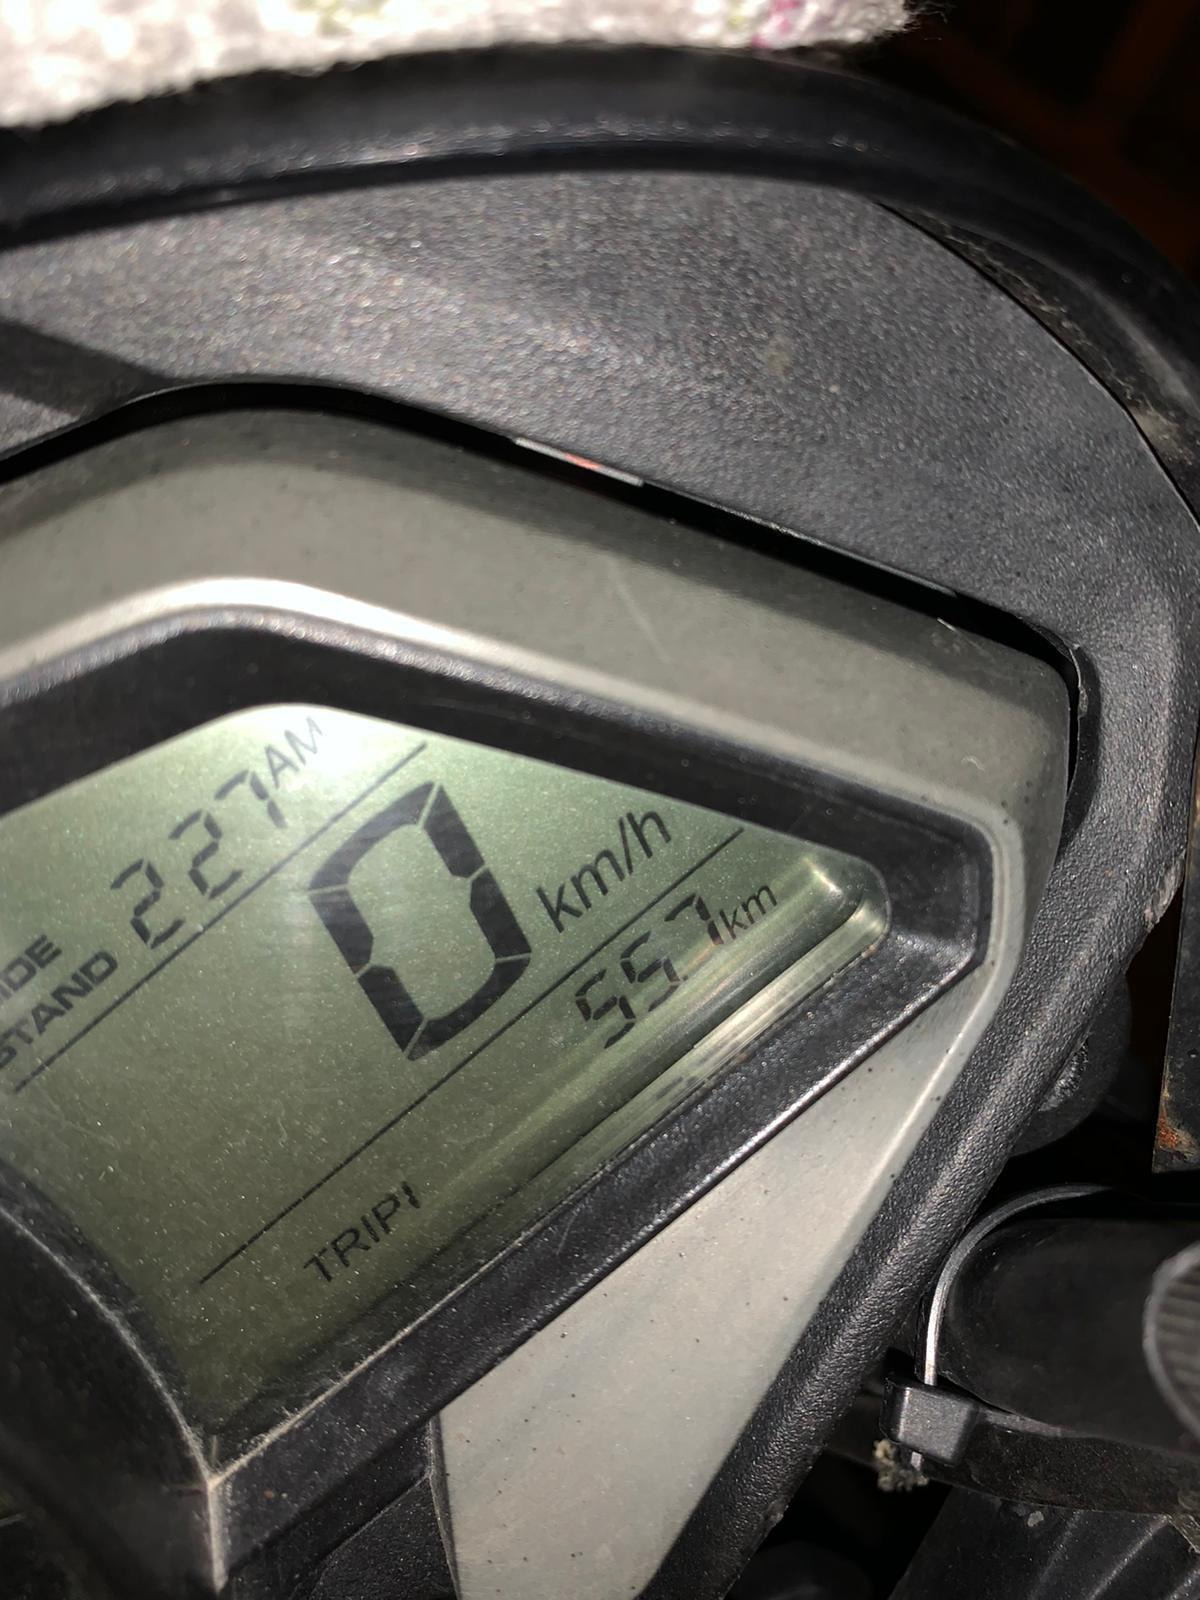,: (676, 959, 698, 986)
0: (308, 777, 536, 1060)
1: (397, 1170, 431, 1221)
2: (106, 858, 188, 947), (168, 804, 247, 896)
5: (574, 966, 637, 1051), (619, 929, 681, 1009)
7: (209, 763, 292, 840), (664, 891, 726, 950)
X: (565, 848, 626, 910), (624, 805, 676, 858), (531, 881, 584, 929), (280, 717, 326, 760), (258, 745, 308, 784), (326, 1222, 371, 1264), (609, 814, 637, 874), (741, 882, 782, 922), (296, 1247, 337, 1286), (49, 973, 95, 1007), (371, 1196, 405, 1238), (79, 947, 122, 981), (29, 999, 67, 1036), (21, 932, 61, 968), (0, 956, 37, 993), (0, 1018, 40, 1046), (721, 905, 751, 941), (357, 1209, 382, 1249)
odometer: (1, 677, 947, 1495)
